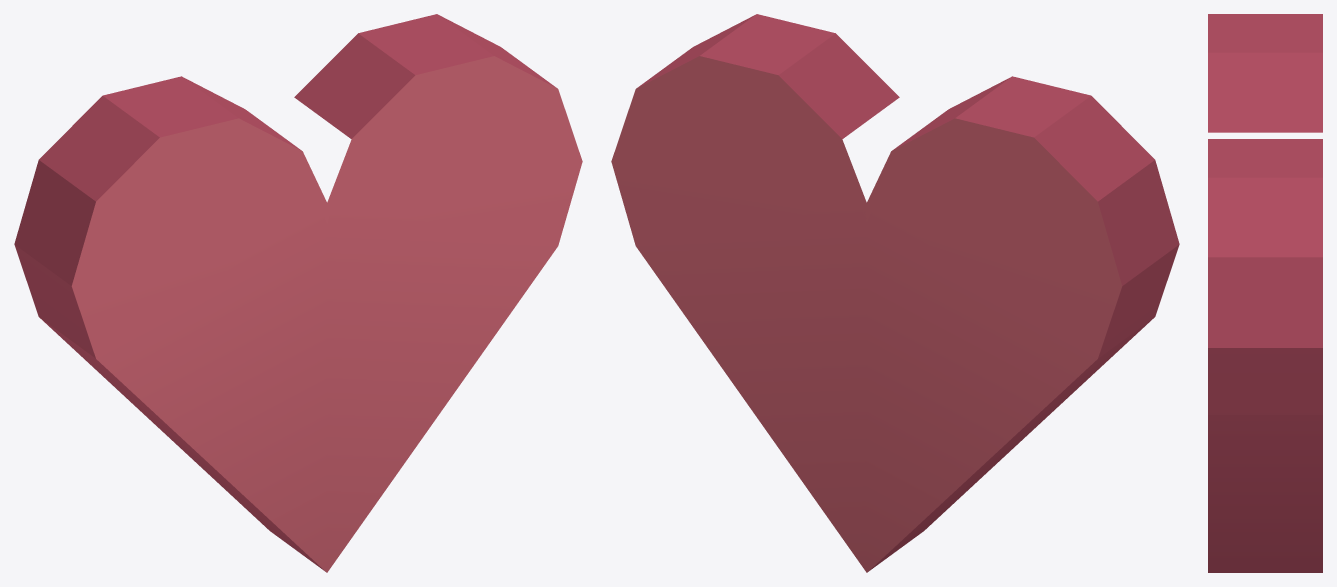
The model's file is heart.glb.
3 renders of one model, left to right at view 1: azimuth 30°, elevation 25°; view 2: azimuth 150°, elevation 25°; view 3: azimuth 270°, elevation 25°, orthographic.
Visible parts, largest first — view 1: heart; view 2: heart; view 3: heart.
Boxes of the visible parts, x1,y1,x2,y2 form: heart: [14, 14, 582, 572]; heart: [611, 14, 1179, 572]; heart: [1208, 14, 1322, 572].
Bounding box in the file's own units: 0.72 × 0.6412 × 0.14.
